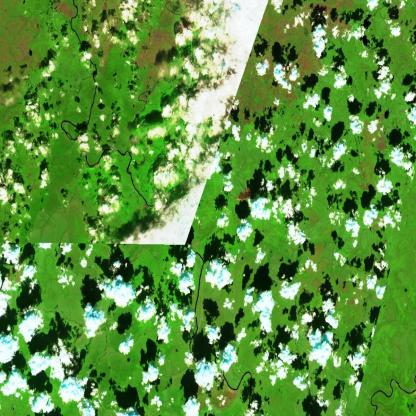fire: (235, 184, 254, 206)
